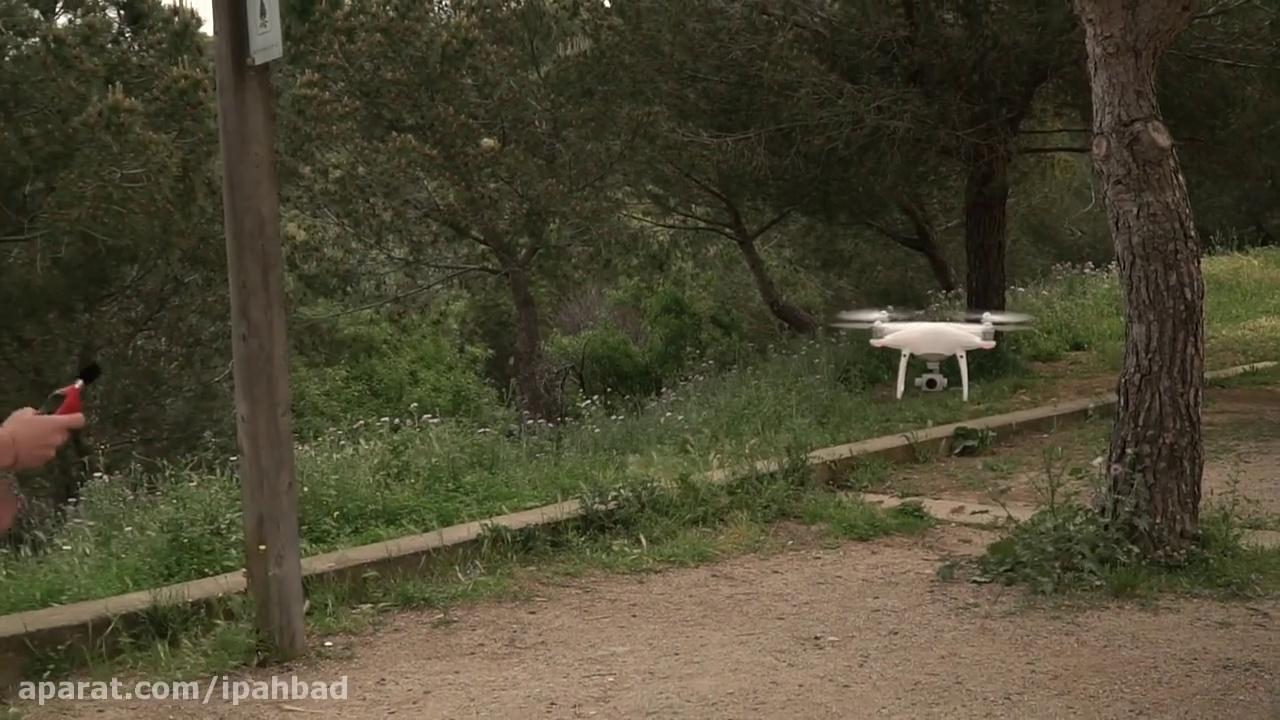drone: (827, 305, 1036, 402)
